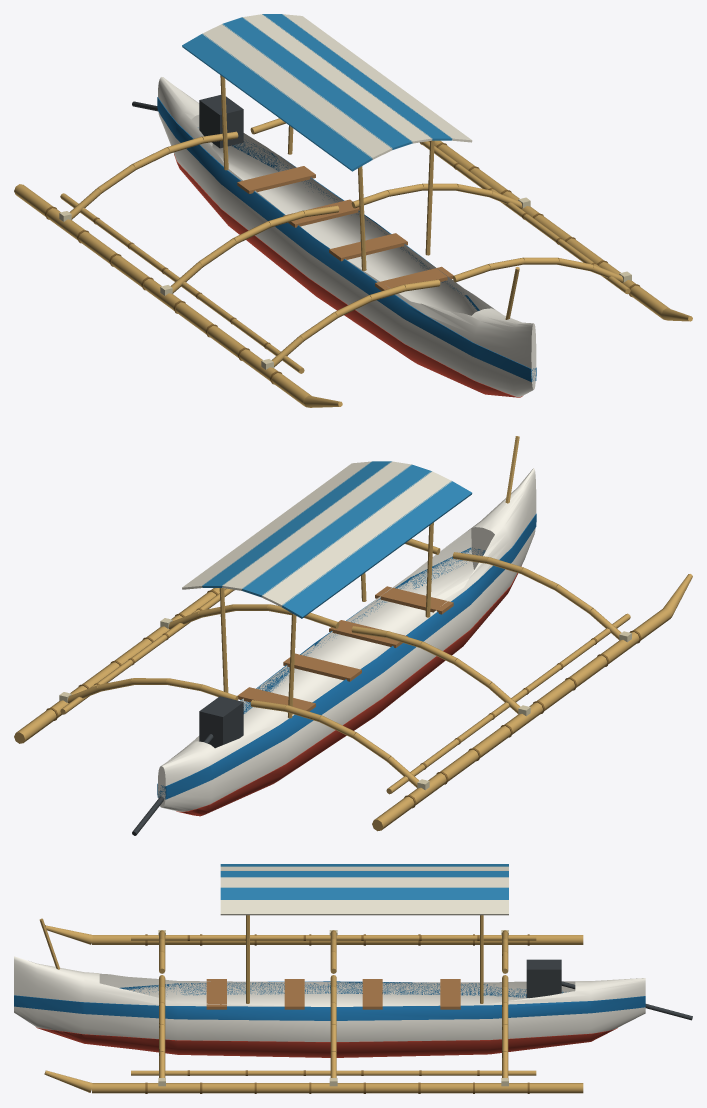
File: bangka.glb
3 renders of one model, top to bottom at view 1: azimuth 30°, elevation 25°; view 2: azimuth 150°, elevation 25°; view 3: azimuth 270°, elevation 25°, orthographic. The views are drawn at different scales.
Visible parts, largest first — view 1: hull_0, stripe_1, canvas2_81, bamboo_39, canvas_82, canvas2_83, keel_2, canvas_84, canvas2_85, canvas_86, bamboo_56, bamboo_49 (+7 smaller); view 2: hull_0, stripe_1, canvas2_81, bamboo_39, canvas_82, canvas2_83, keel_2, canvas_84, canvas2_85, canvas_86, bamboo_56, bamboo_49 (+6 smaller); view 3: hull_0, stripe_1, keel_2, bamboo_56, canvas_86, canvas2_85, canvas_84, bamboo_39, bamboo_66, bamboo_49, canvas2_83, canvas_82 (+8 smaller).
Boxes of the visible parts, box(x1,y1,x2,y2) form: hull_0: box(158, 77, 536, 396); stripe_1: box(157, 97, 536, 381); canvas2_81: box(182, 33, 372, 171); bamboo_39: box(14, 184, 311, 406); canvas_82: box(202, 24, 392, 159); canvas2_83: box(222, 17, 412, 149); keel_2: box(174, 154, 522, 397); canvas_84: box(242, 14, 432, 143); canvas2_85: box(262, 14, 452, 140); canvas_86: box(282, 14, 472, 142); bamboo_56: box(428, 140, 669, 318); bamboo_49: box(60, 193, 304, 373); hull_0: box(158, 468, 536, 811); stripe_1: box(157, 513, 536, 799); canvas2_81: box(282, 481, 472, 618); bamboo_39: box(372, 608, 672, 831); canvas_82: box(261, 471, 452, 606); canvas2_83: box(241, 464, 431, 597); keel_2: box(176, 566, 521, 816); canvas_84: box(222, 461, 411, 590); canvas2_85: box(202, 461, 391, 587); canvas_86: box(182, 461, 371, 589); bamboo_56: box(14, 588, 225, 743); bamboo_49: box(386, 613, 630, 794); hull_0: box(14, 956, 645, 1041); stripe_1: box(14, 981, 645, 1020); keel_2: box(36, 1027, 617, 1057); bamboo_56: box(92, 1083, 583, 1093); canvas_86: box(220, 900, 508, 915); canvas2_85: box(220, 887, 508, 899); canvas_84: box(220, 877, 508, 887); bamboo_39: box(92, 935, 583, 944); bamboo_66: box(131, 1070, 536, 1075); bamboo_49: box(131, 935, 536, 940); canvas2_83: box(220, 871, 508, 877); canvas_82: box(220, 866, 508, 870).
Bounding box in the file's own units: 4.66 × 2.47 × 8.71.
